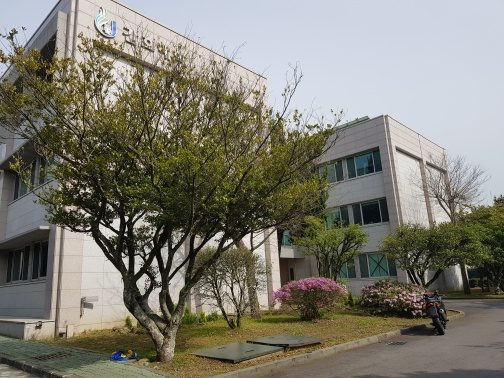College of Nursing: (14, 21, 458, 286)
